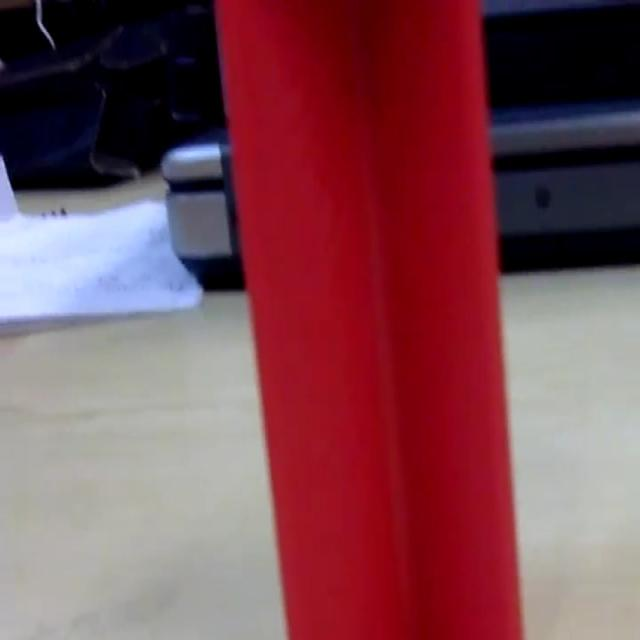red_block: (213, 0, 526, 636)
